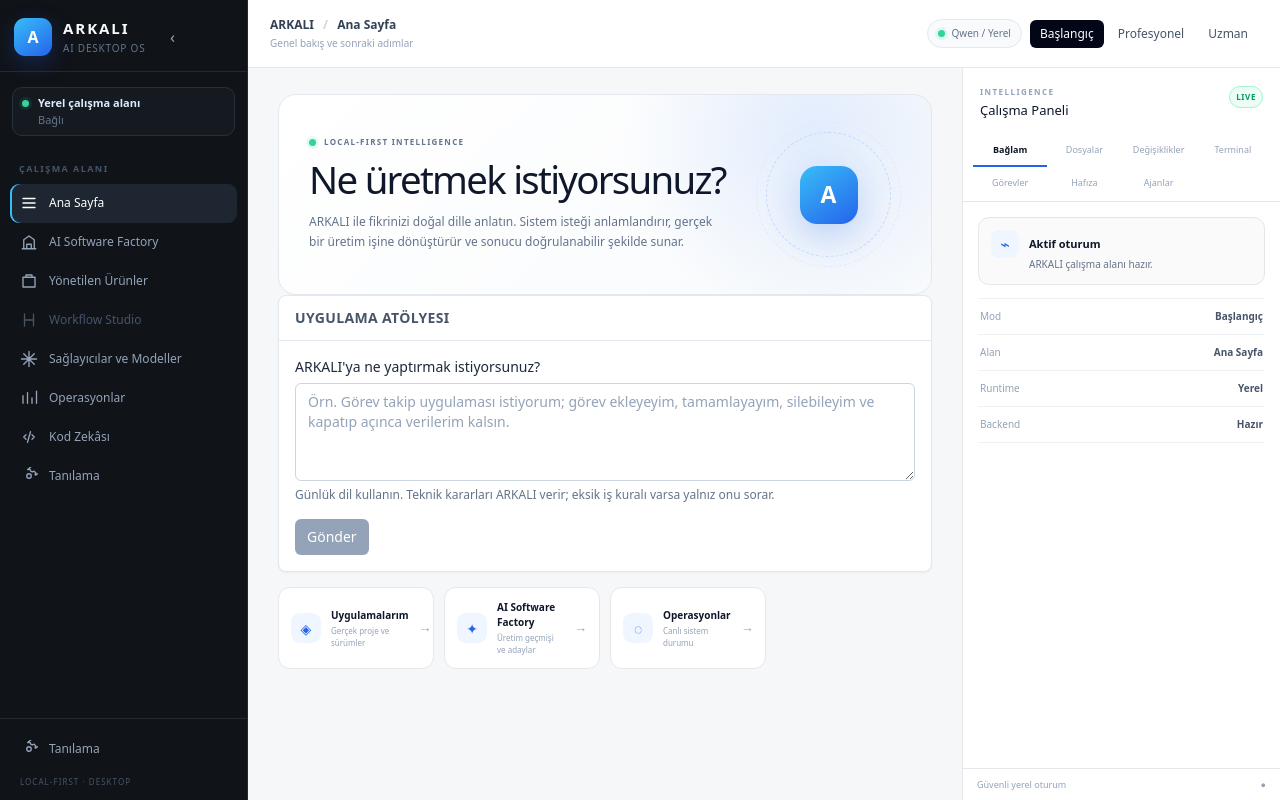
Test: AI Software Factory history page › reports a transport failure rather than showing stale or invented data
Click the button "AI Software Factory": [124, 242] box [10,222,237,262]
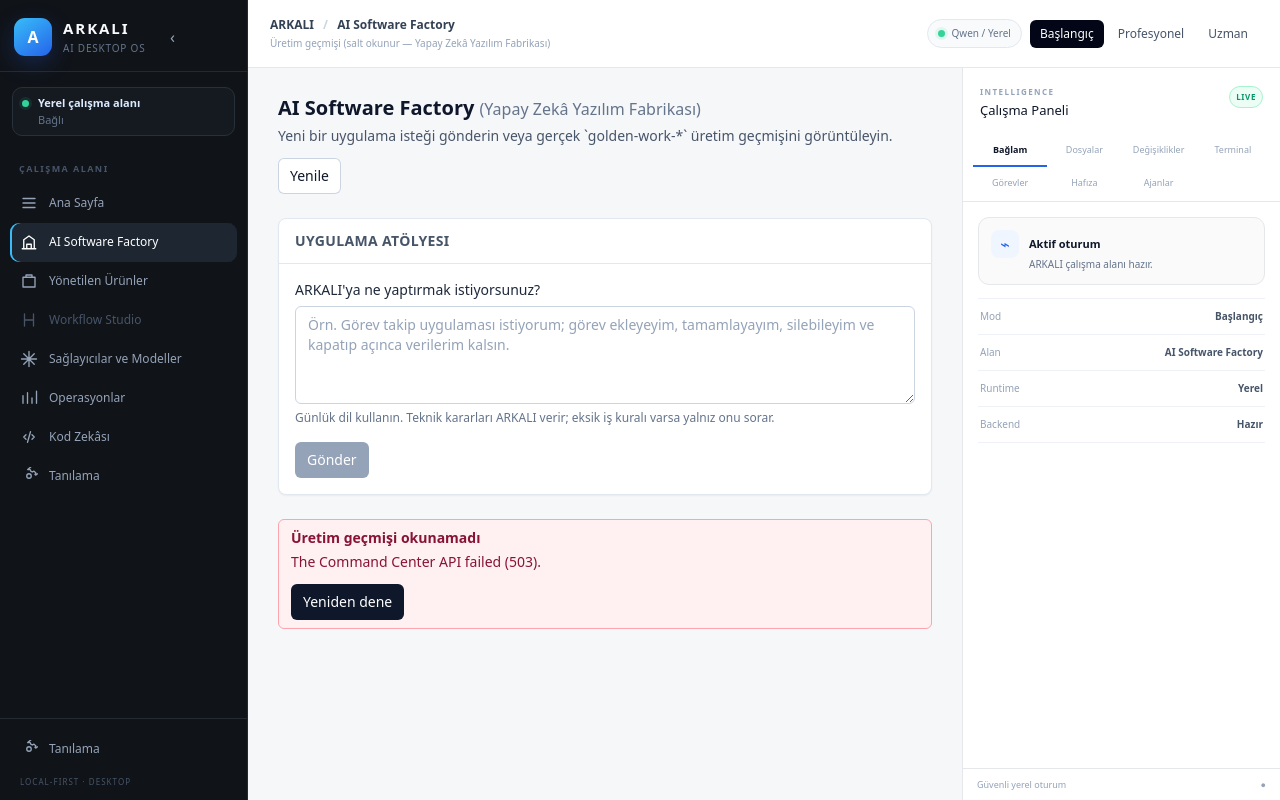
Expected: the text "Üretim geçmişi okunamadı" is shown, [291,528,480,547]
